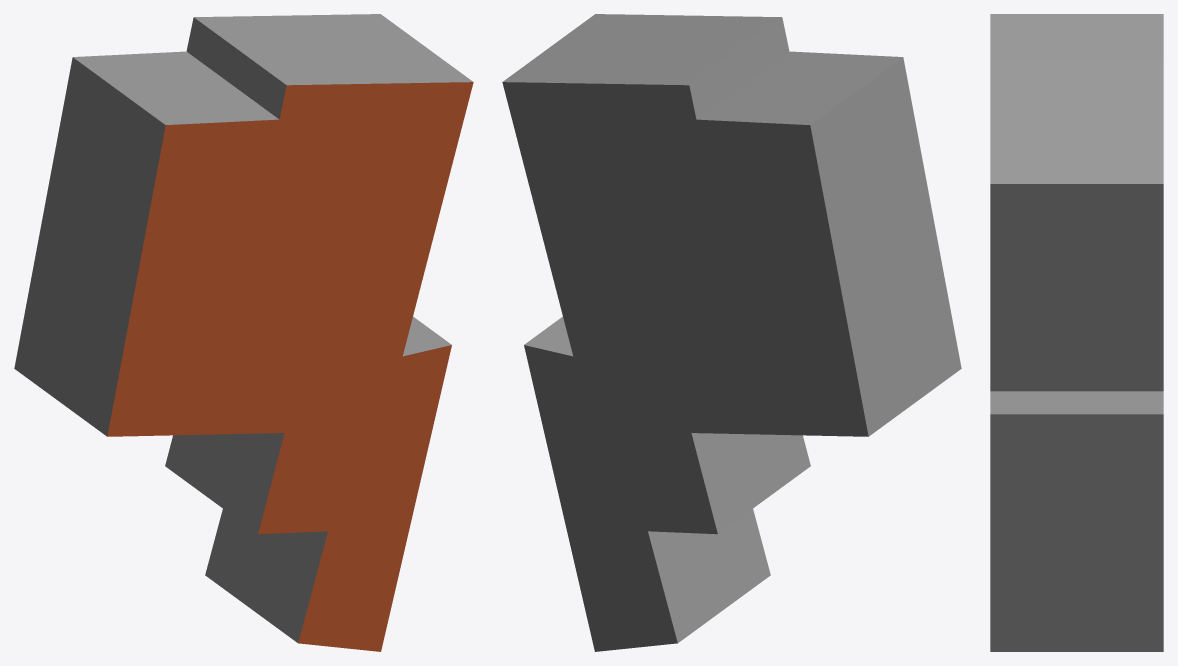
File: construction_4567_assumed_A_Casa_h6m.obj
3 renders of one model, left to right at view 1: azimuth 30°, elevation 25°; view 2: azimuth 150°, elevation 25°; view 3: azimuth 270°, elevation 25°, orthographic. The views are drawn at different scales.
Visible parts, largest first — view 1: construction_4567_assumed_A_Casa; view 2: construction_4567_assumed_A_Casa; view 3: construction_4567_assumed_A_Casa.
Boxes of the visible parts, box(x1,y1,x2,y2) form: construction_4567_assumed_A_Casa: box(14, 14, 473, 651); construction_4567_assumed_A_Casa: box(502, 14, 961, 651); construction_4567_assumed_A_Casa: box(990, 14, 1163, 651).
Size of the model in its own units: 13.64 by 20.99 by 6.
